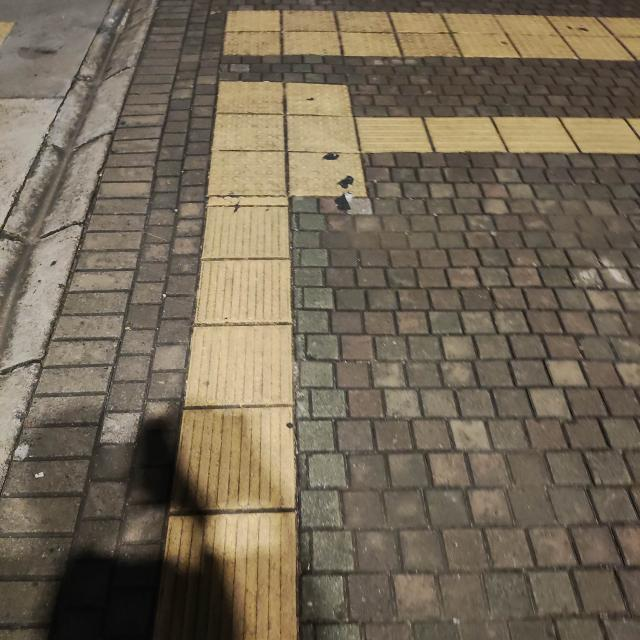kanan: (184, 87, 434, 246)
